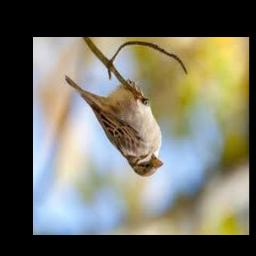Sparrow: (65, 73, 164, 178)
